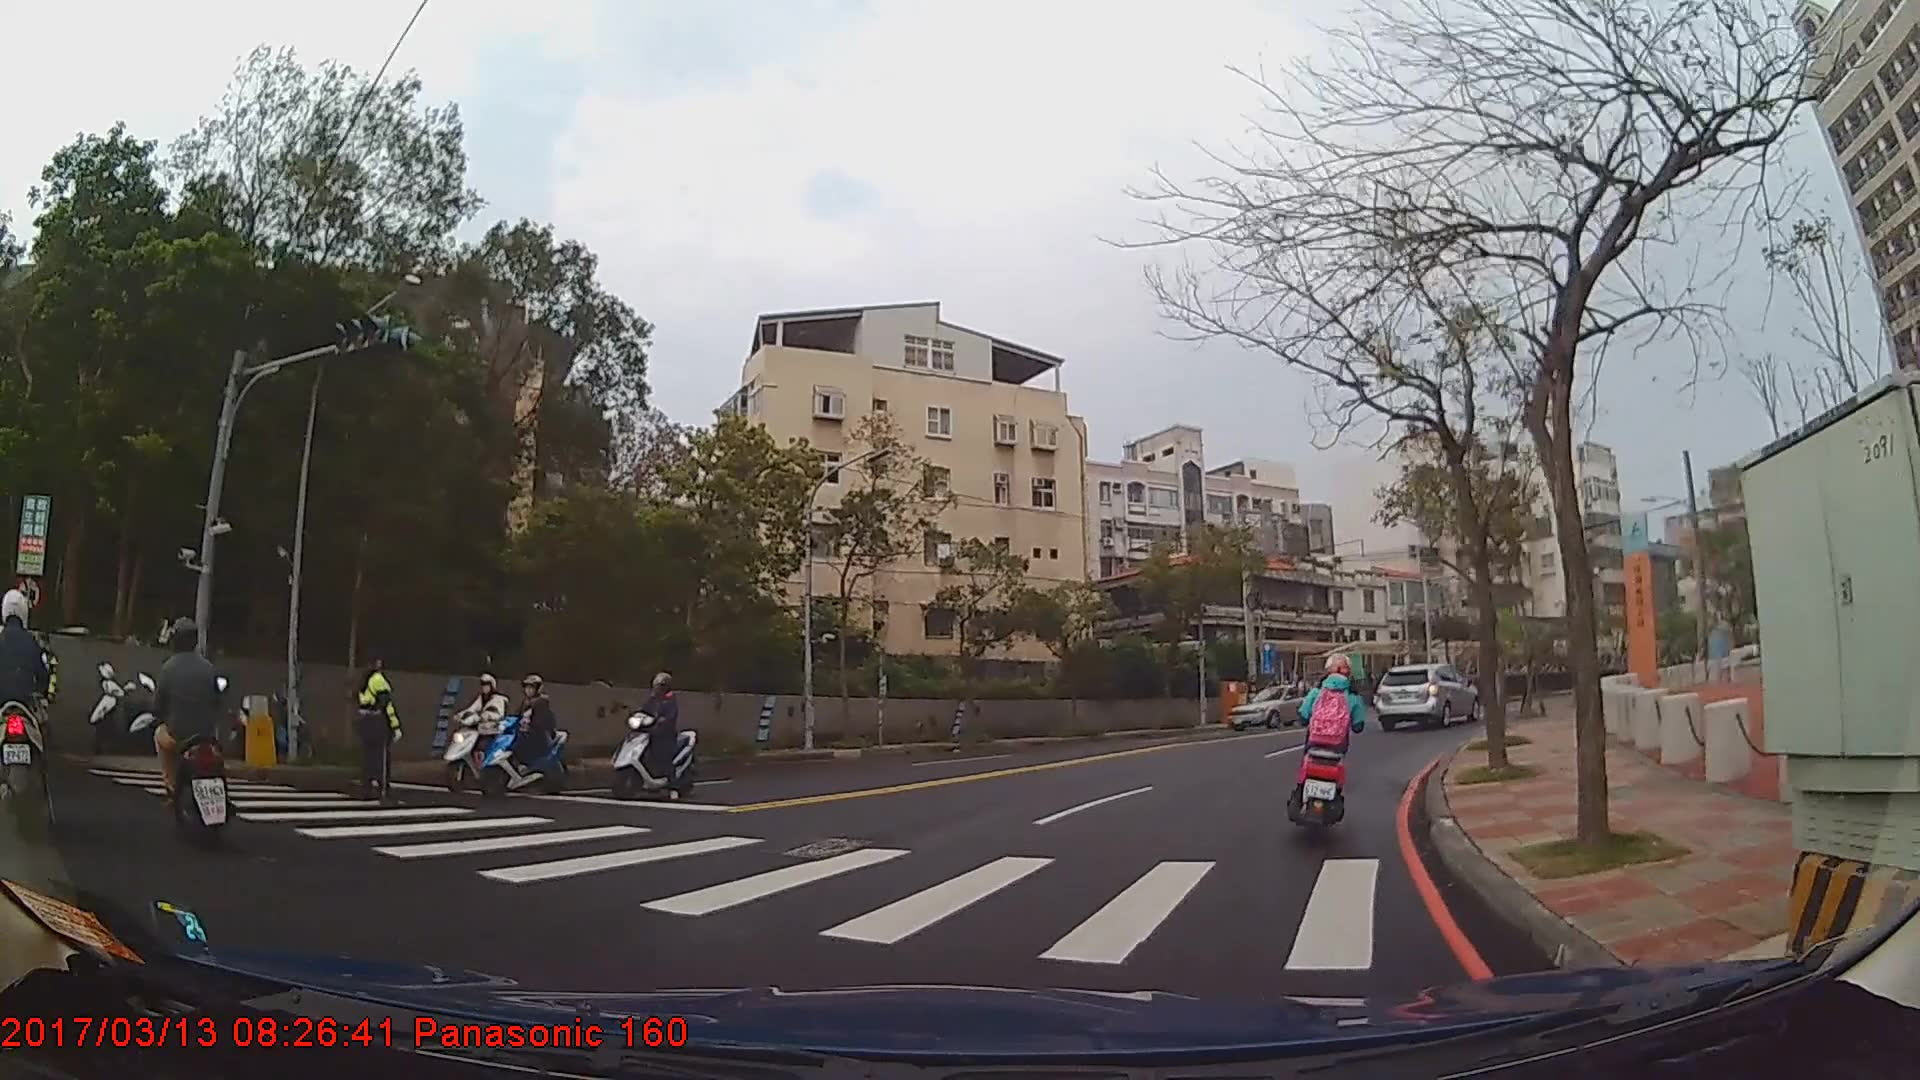pedestrian: (355, 642, 406, 798)
rider: (137, 610, 230, 840), (1290, 653, 1366, 829), (1, 588, 56, 832), (611, 671, 699, 798), (486, 669, 565, 791), (443, 669, 523, 786)
vehicle: (1371, 661, 1479, 728), (1225, 684, 1321, 732)
